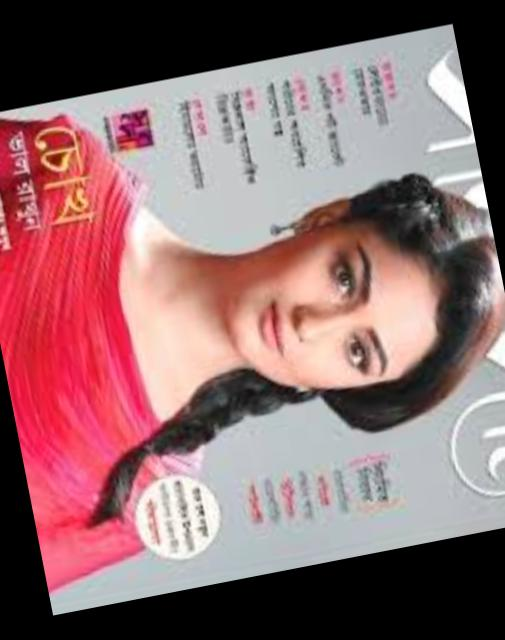cardboard paper: (0, 24, 505, 616)
